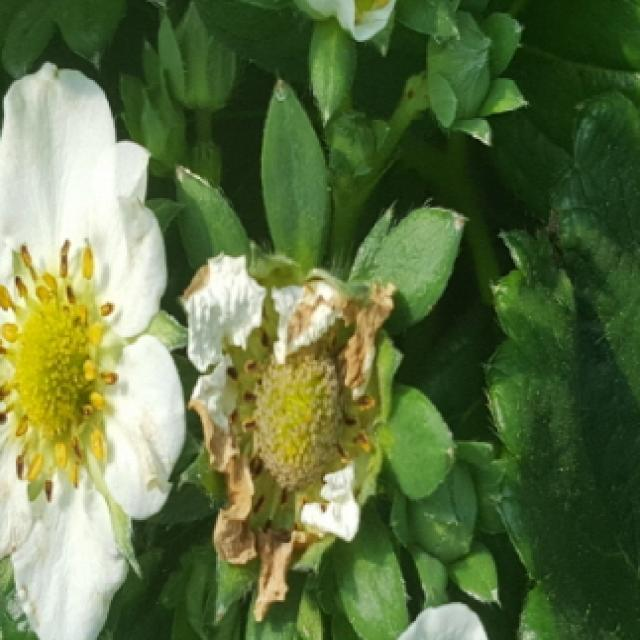Blossom Blight: (223, 297, 383, 549), (0, 235, 120, 509)
